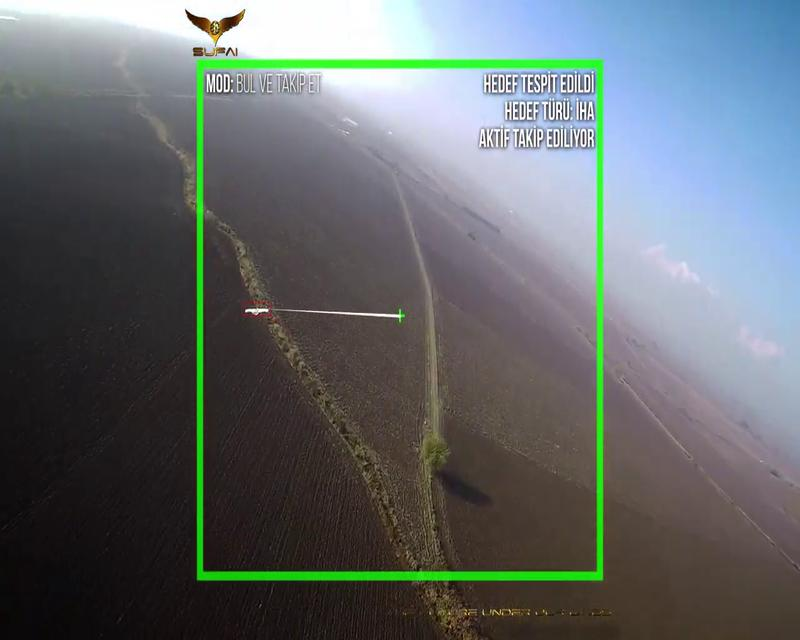UAV: (245, 306, 270, 318)
